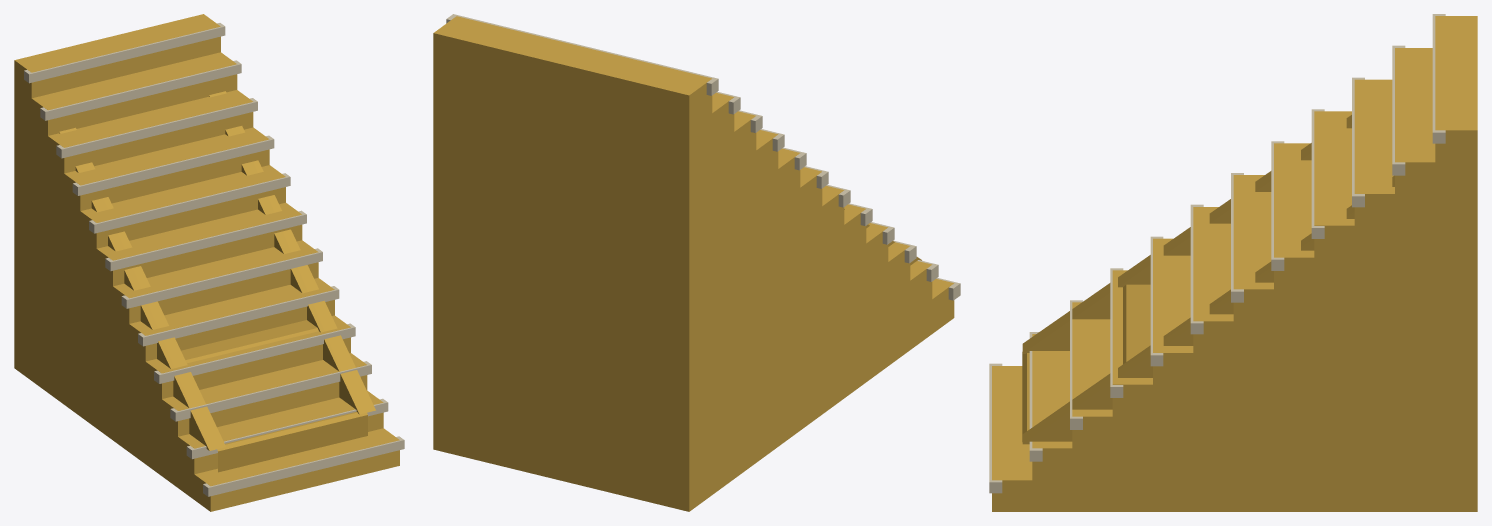
File: stairs-stone-butter.glb
The picture shows the model from 3 angles, left to right: view 1: azimuth 30°, elevation 25°; view 2: azimuth 150°, elevation 25°; view 3: azimuth 270°, elevation 25°; orthographic projection. The views are drawn at different scales.
Visible parts, largest first — view 1: stairs-stone-butter; view 2: stairs-stone-butter; view 3: stairs-stone-butter.
Part boxes in pixels (x1,y1,x2,y2): stairs-stone-butter: (14, 14, 404, 511); stairs-stone-butter: (433, 14, 960, 511); stairs-stone-butter: (989, 14, 1477, 511).
Bounding box in the file's own units: 1.95 × 2.92 × 3.39.
